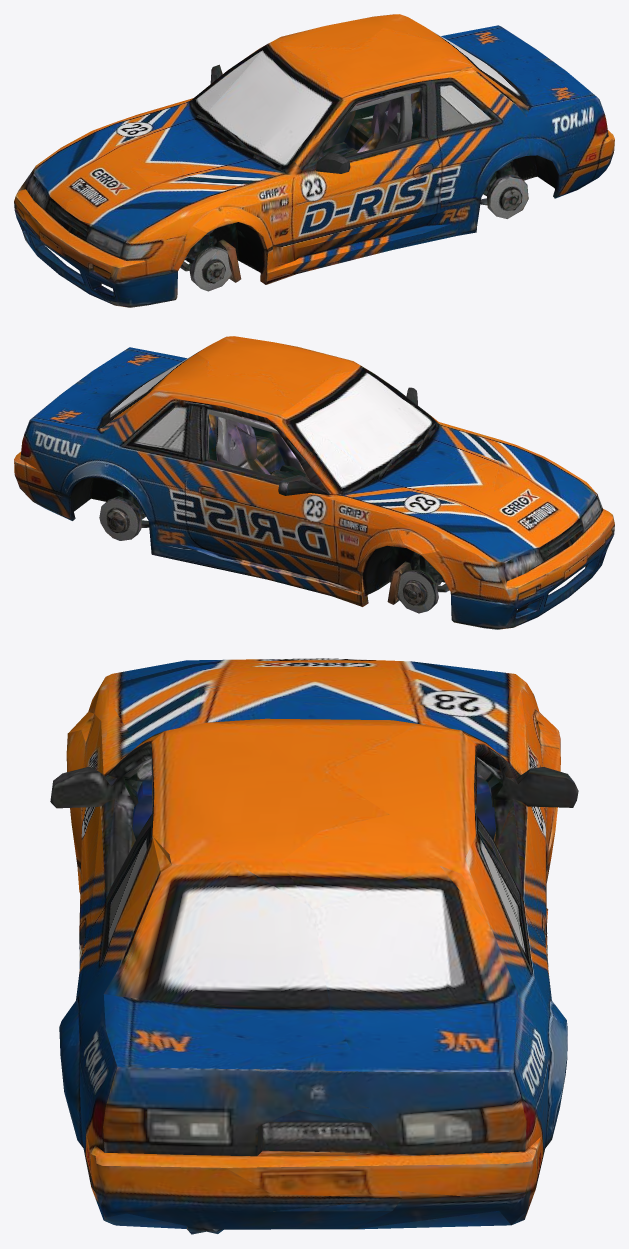
Rendered from skin7.glb.
The picture shows the model from 3 angles, top to bottom: view 1: azimuth 30°, elevation 25°; view 2: azimuth 150°, elevation 25°; view 3: azimuth 270°, elevation 25°; orthographic projection. The views are drawn at different scales.
Bounding box in the file's own units: 1.9 × 0.5485 × 0.8387.
1 material, 1 textured.
